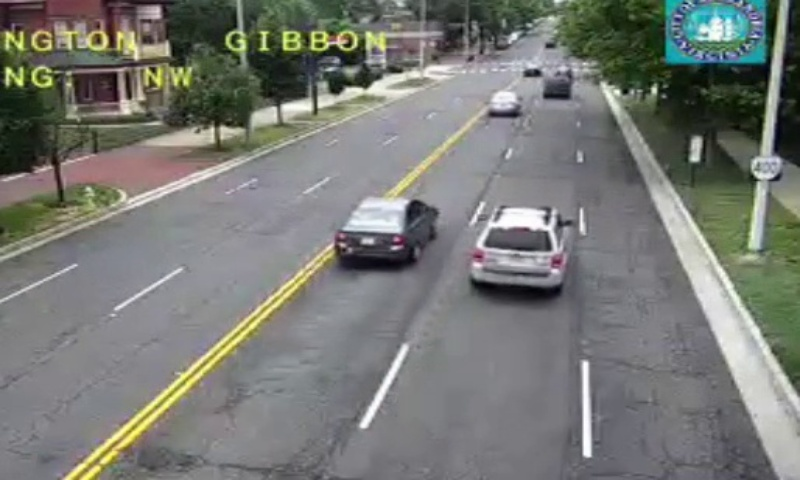car: (468, 207, 566, 290), (334, 197, 440, 257), (488, 91, 519, 115)
